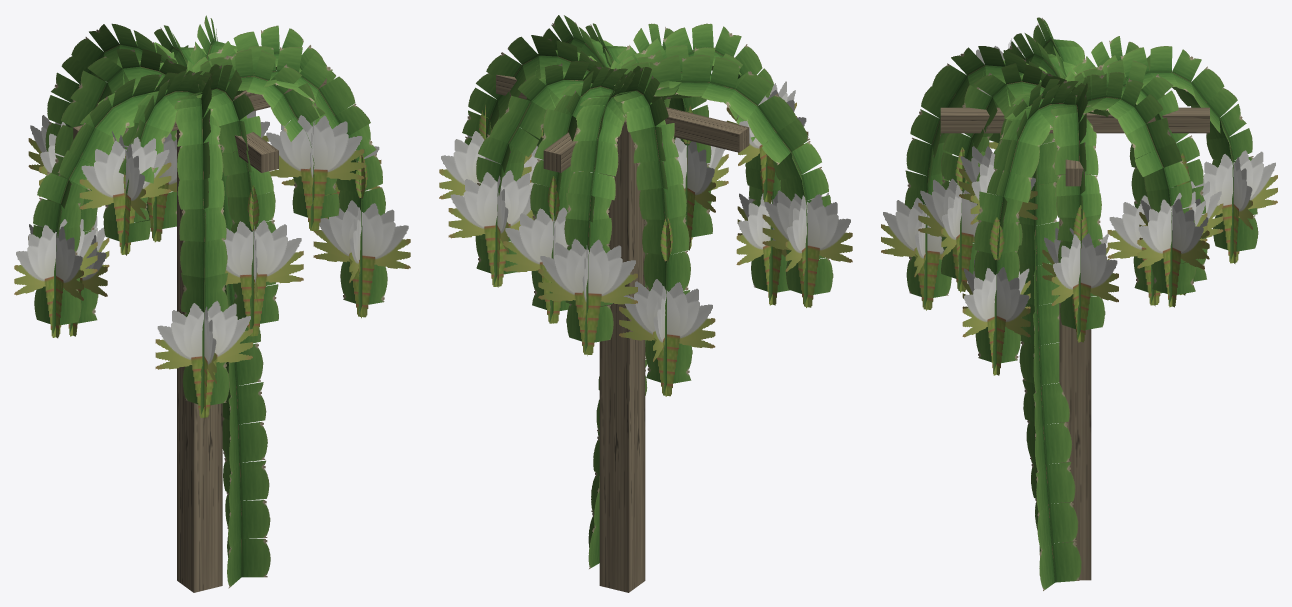
File: dragonfruit_5.obj
3 views of the same model, side by side, from view 1: azimuth 30°, elevation 25°; view 2: azimuth 150°, elevation 25°; view 3: azimuth 270°, elevation 25° (orthographic). The views are drawn at different scales.
Parts seen in each view (by area): view 1: dragonfruit; view 2: dragonfruit; view 3: dragonfruit.
Boxes of the visible parts, x1=… form: dragonfruit: x1=14, y1=15, x2=410, y2=592; dragonfruit: x1=439, y1=15, x2=852, y2=592; dragonfruit: x1=881, y1=17, x2=1277, y2=590.
Bounding box in the file's own units: 1.3 × 1.77 × 1.24.
